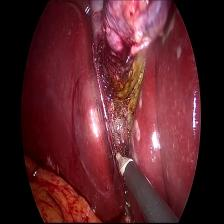Hook: (112, 142, 140, 177)
